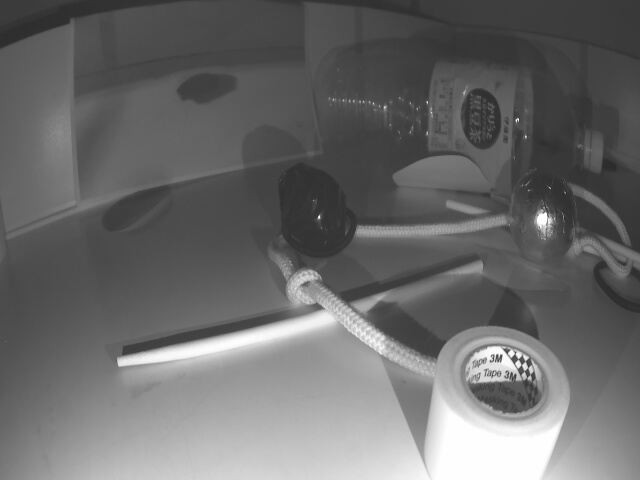Dead: (276, 161, 356, 260)
Live: (510, 169, 576, 260)
